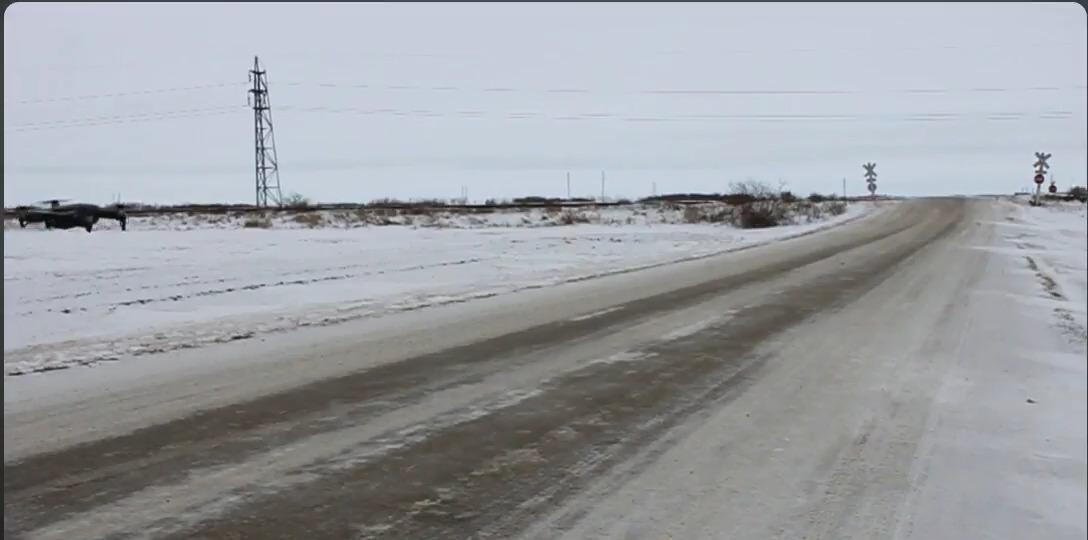dr: (12, 196, 132, 236)
